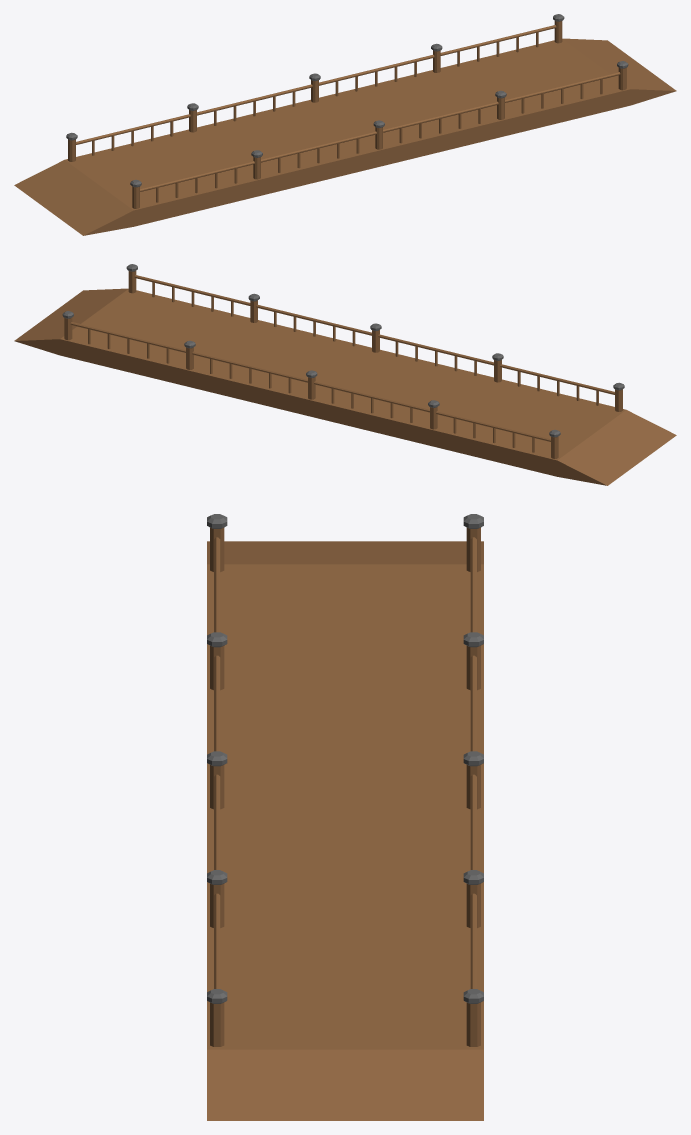
File: Bridge.dae
3 views of the same model, one above another, from view 1: azimuth 30°, elevation 25°; view 2: azimuth 150°, elevation 25°; view 3: azimuth 270°, elevation 25° (orthographic). The views are drawn at different scales.
Visible parts, largest first — view 1: Cube; view 2: Cube; view 3: Cube.
Boxes of the visible parts, left/top/right/bottom form: Cube: left=14, top=14, right=676, bottom=235; Cube: left=14, top=264, right=676, bottom=485; Cube: left=207, top=514, right=483, bottom=1120.
Bounding box in the file's own units: 6.26 × 1.27 × 0.4797.
Materials: 1 (1 with a texture image).
